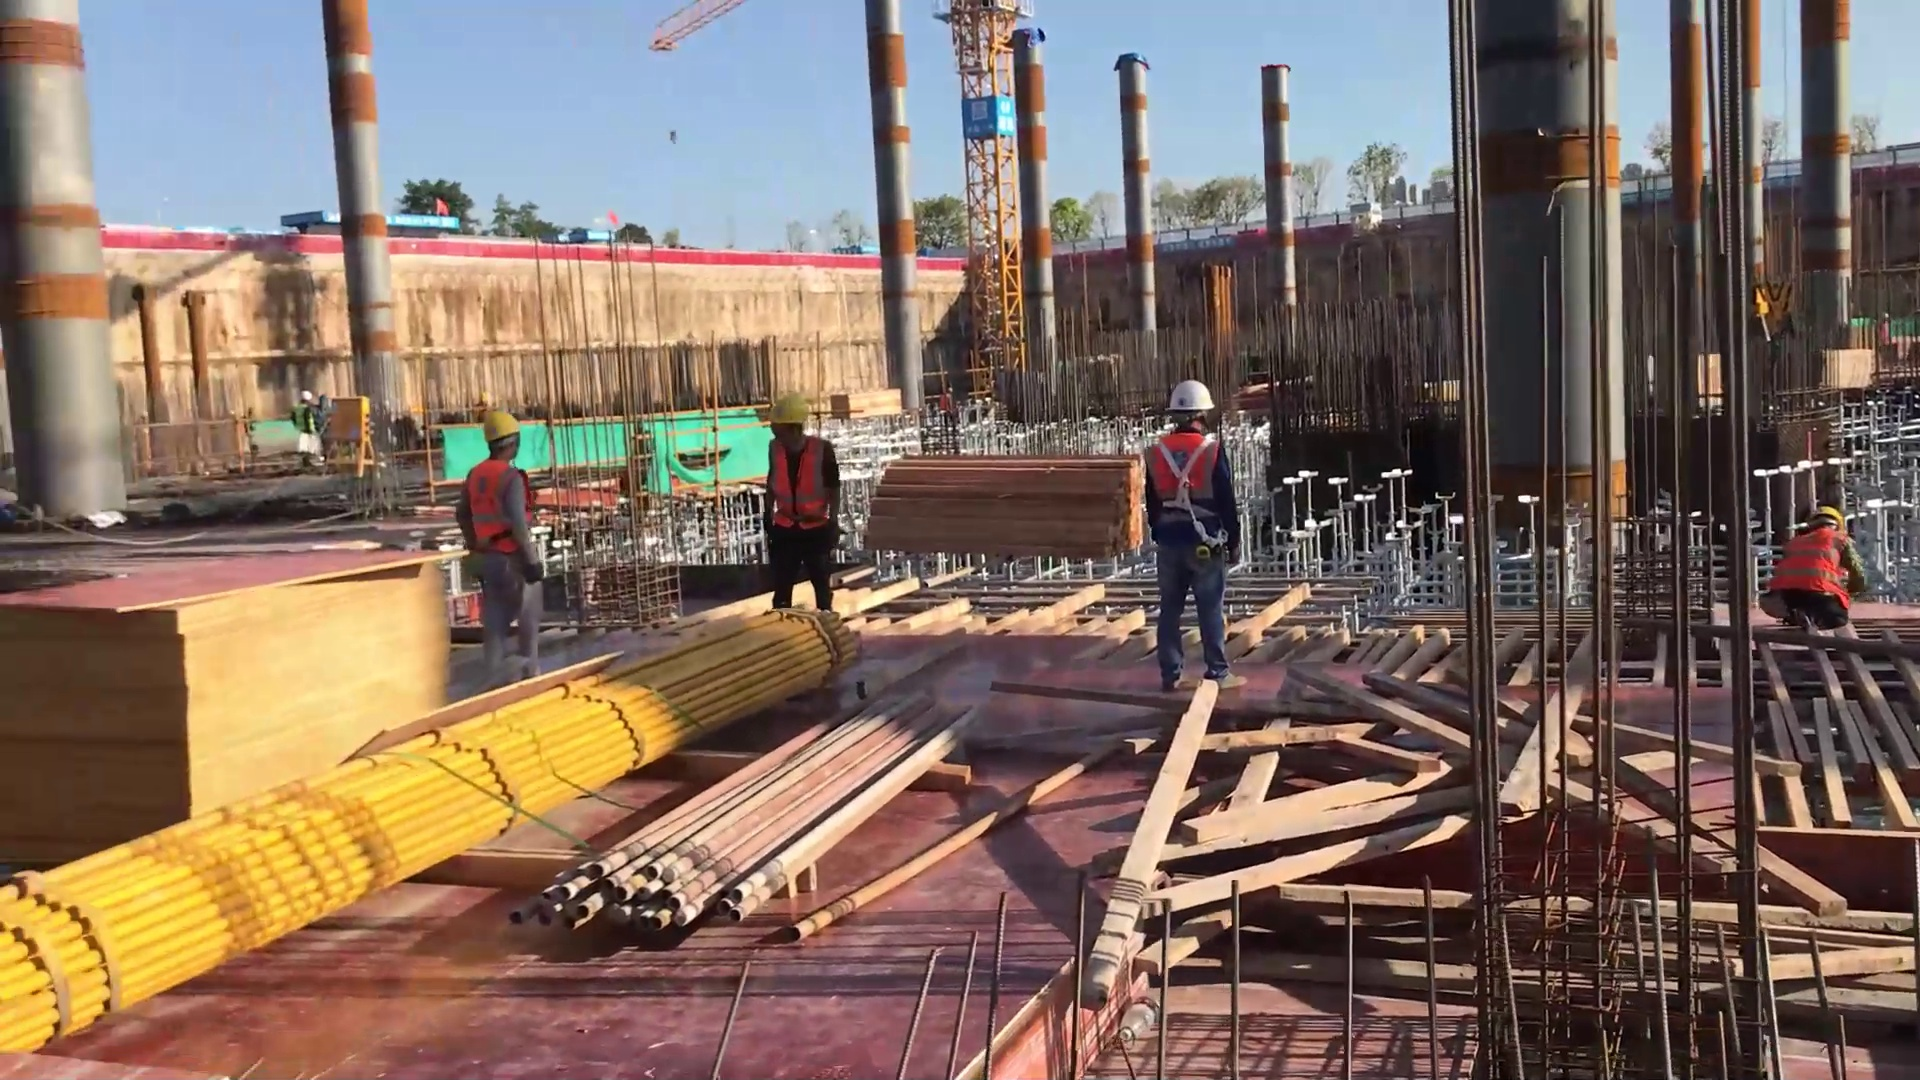board: (1, 531, 472, 899)
ebox: (325, 392, 377, 478)
helmet: (1161, 376, 1219, 419), (765, 388, 817, 430), (478, 406, 522, 447), (1808, 498, 1846, 536)
person: (1131, 373, 1267, 704), (447, 397, 565, 680), (746, 388, 854, 620), (1757, 494, 1868, 641)
vest: (1143, 427, 1231, 543), (461, 456, 543, 559), (761, 434, 838, 534), (1764, 531, 1856, 612)
wood: (860, 438, 1157, 569)
